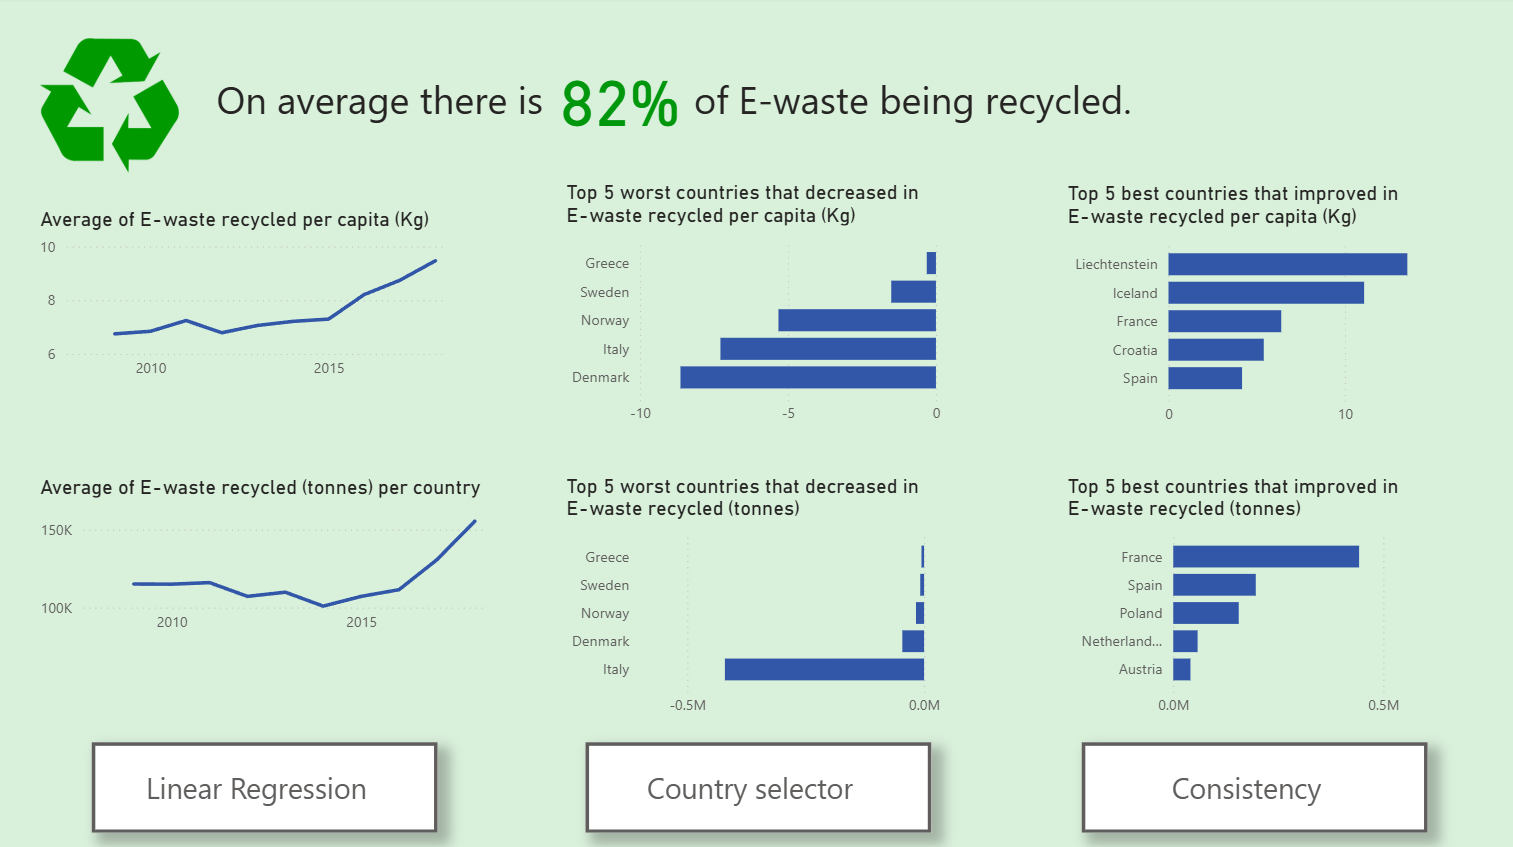

The page's visual inventory and layout, read from the dashboard file:
{"tool":"powerbi","page":{"name":"Dashboard main","canvas":[1280,720],"ordinal":1},"visuals":[{"type":"image","box":[30,28.3,126.7,126.7],"z":0},{"type":"card","fields":{"Values":["Avg(Electronic Waste Recycled Countries.Proportion_e_waste_recycled_percent)"]},"box":[456.4,20.9,134.5,125.5],"z":1000},{"type":"textbox","box":[179.1,60.3,289.1,299.7],"z":2000},{"type":"textbox","box":[580,60,408.2,300],"z":3000},{"type":"lineChart","title":"Average of E-waste recycled per capita (Kg)","fields":{"Y":["Avg(Electronic Waste Recycled Countries.E-waste_recycled_per_capita_Kg)"],"Category":["Electronic Waste Recycled Countries.Year"]},"box":[30.1,177.9,355.7,153.6],"z":4000},{"type":"lineChart","title":"Average of E-waste recycled (tonnes) per country","fields":{"Y":["Avg(Electronic Waste Recycled Countries.E_waste_recycled_tonnes)"],"Category":["Electronic Waste Recycled Countries.Year"]},"box":[30.1,402.4,388.8,141.9],"z":5000},{"type":"clusteredBarChart","title":"Top 5 best countries that improved in E-waste recycled (tonnes)","fields":{"Category":["Electronic Waste Recycled Countries.GeoAreaName"],"Y":["Electronic Waste Recycled Countries.Change in Recycling"]},"box":[895,401.7,325,213.3],"z":6000},{"type":"clusteredBarChart","title":"Top 5 worst countries that decreased in E-waste recycled (tonnes)","fields":{"Category":["Electronic Waste Recycled Countries.GeoAreaName"],"Y":["Electronic Waste Recycled Countries.Change in Recycling"]},"box":[473.3,401.7,325,213.3],"z":7000},{"type":"clusteredBarChart","title":"Top 5 best countries that improved in E-waste recycled per capita (Kg)","fields":{"Category":["Electronic Waste Recycled Countries.GeoAreaName"],"Y":["Electronic Waste Recycled Countries.Change in Recycling pc"]},"box":[894.5,155.5,324.5,214.5],"z":8000},{"type":"clusteredBarChart","title":"Top 5 worst countries that decreased in E-waste recycled per capita (Kg)","fields":{"Category":["Electronic Waste Recycled Countries.GeoAreaName"],"Y":["Electronic Waste Recycled Countries.Change in Recycling pc"]},"box":[473.3,155,325,215],"z":9000},{"type":"actionButton","box":[494.5,627.3,290.9,76.4],"z":10000},{"type":"actionButton","box":[79.1,627.3,290.9,76.4],"z":11000},{"type":"actionButton","box":[911.8,627.3,290.9,76.4],"z":12000}]}

Visuals, with their boxes in screenshot pixels (x1, y1, x2, y2), scaled from the page's 1280x720 canvas onto the 1513x847 screenshot:
image: detection(35, 33, 185, 182)
card - Avg(Electronic Waste Recycled Countries.Proportion_e_waste_recycled_percent): detection(539, 25, 698, 172)
textbox: detection(212, 71, 553, 424)
textbox: detection(686, 71, 1168, 424)
"Average of E-waste recycled per capita (Kg)" lineChart: detection(36, 209, 456, 390)
"Average of E-waste recycled (tonnes) per country" lineChart: detection(36, 473, 495, 640)
"Top 5 best countries that improved in E-waste recycled (tonnes)" clusteredBarChart: detection(1058, 473, 1442, 723)
"Top 5 worst countries that decreased in E-waste recycled (tonnes)" clusteredBarChart: detection(559, 473, 944, 723)
"Top 5 best countries that improved in E-waste recycled per capita (Kg)" clusteredBarChart: detection(1057, 183, 1441, 435)
"Top 5 worst countries that decreased in E-waste recycled per capita (Kg)" clusteredBarChart: detection(559, 182, 944, 435)
actionButton: detection(585, 738, 928, 828)
actionButton: detection(93, 738, 437, 828)
actionButton: detection(1078, 738, 1422, 828)
